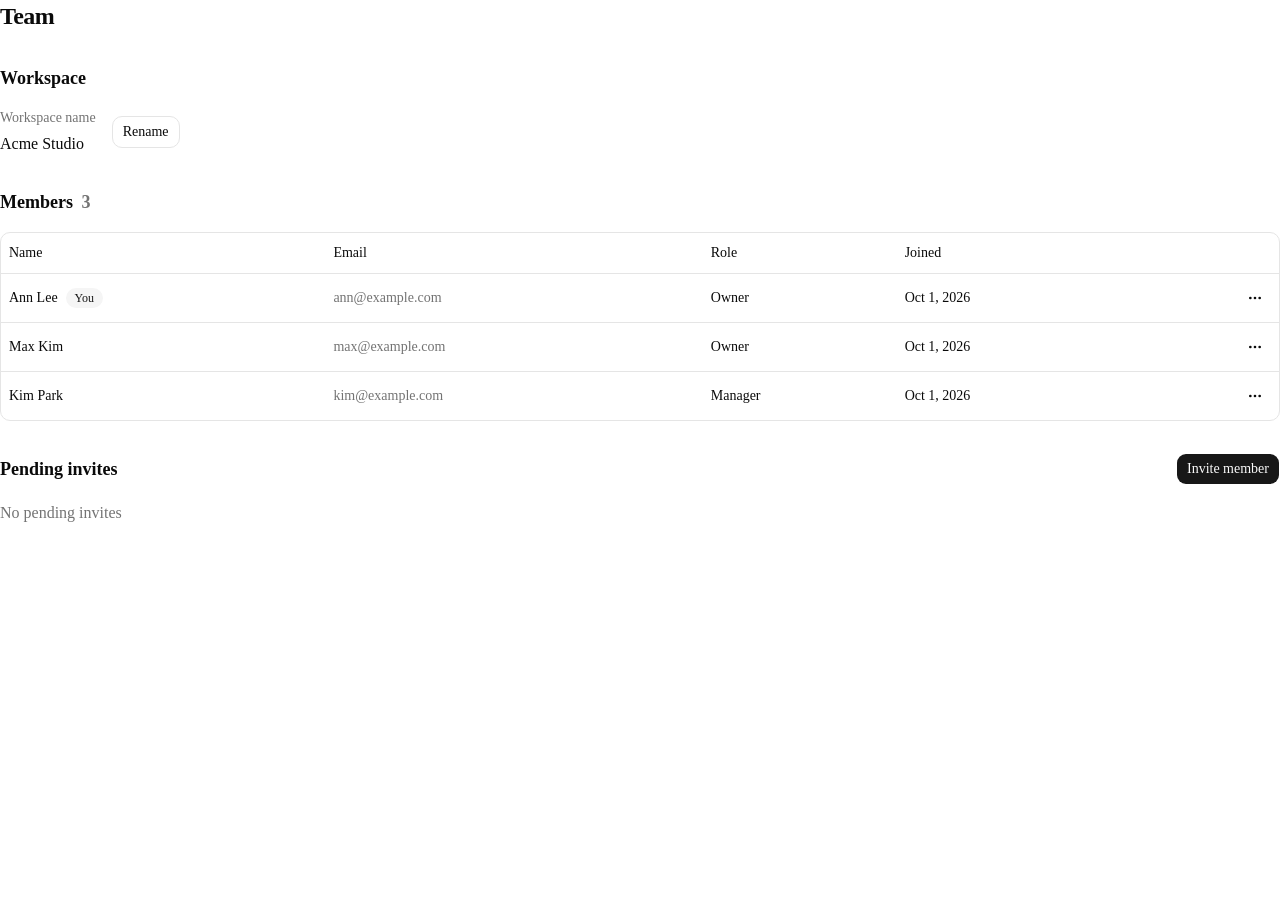
Test: TeamView › roles › should not ask for the invites again when the owner demotes themselves
This screenshot has width=1280, height=900.
What coordinates should you click on to do the following:
click the button named "Actions for Ann Lee"
I would click on:
 (1255, 298)
Its box is [1239,282,1271,314].
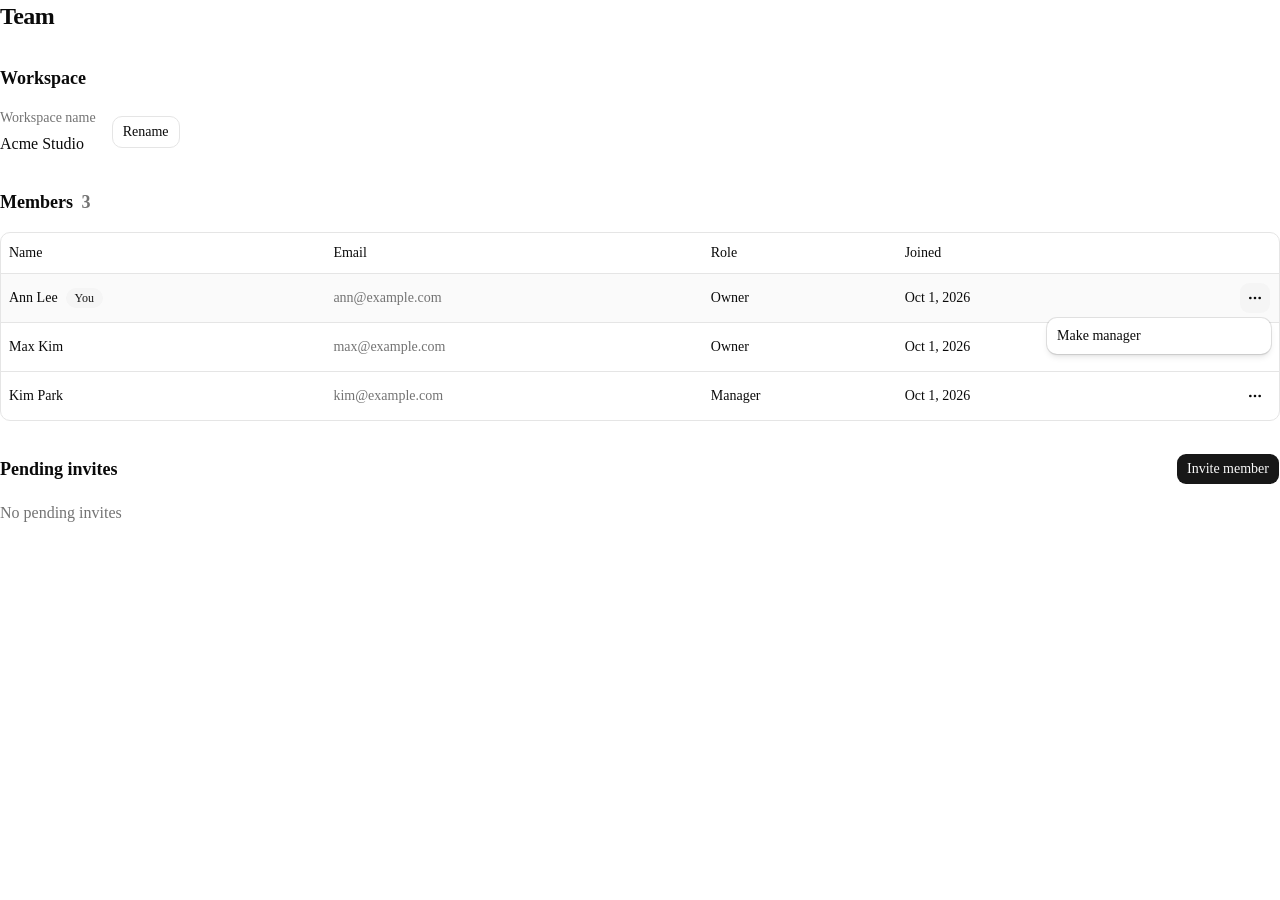
What coordinates should you click on to do the following:
click the menu item "Make manager"
I would click on:
 (1099, 336)
Its box is [1057,328,1141,343].
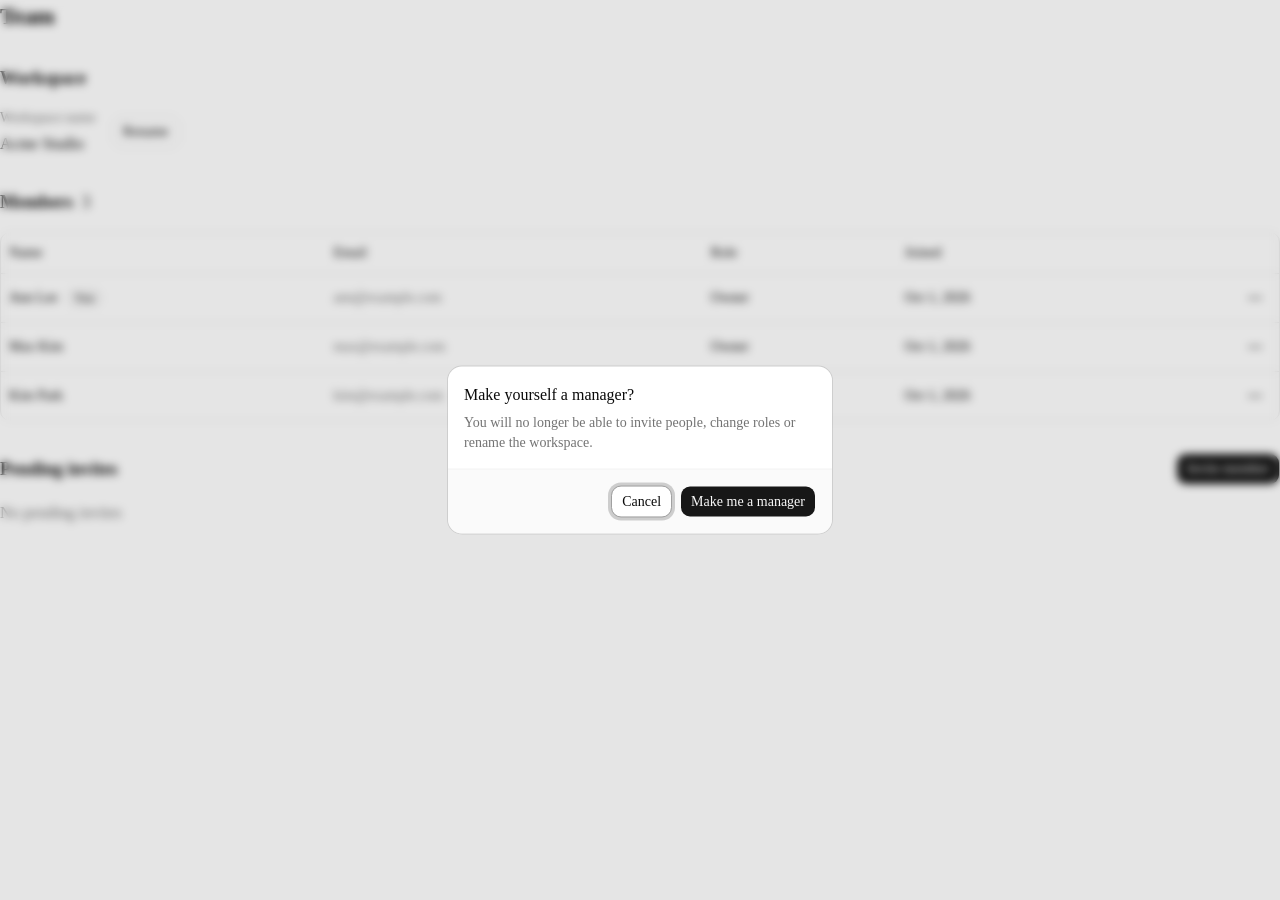
What coordinates should you click on to do the following:
click the button "Make me a manager"
I would click on:
 (748, 502)
Its box is [680,486,816,518].
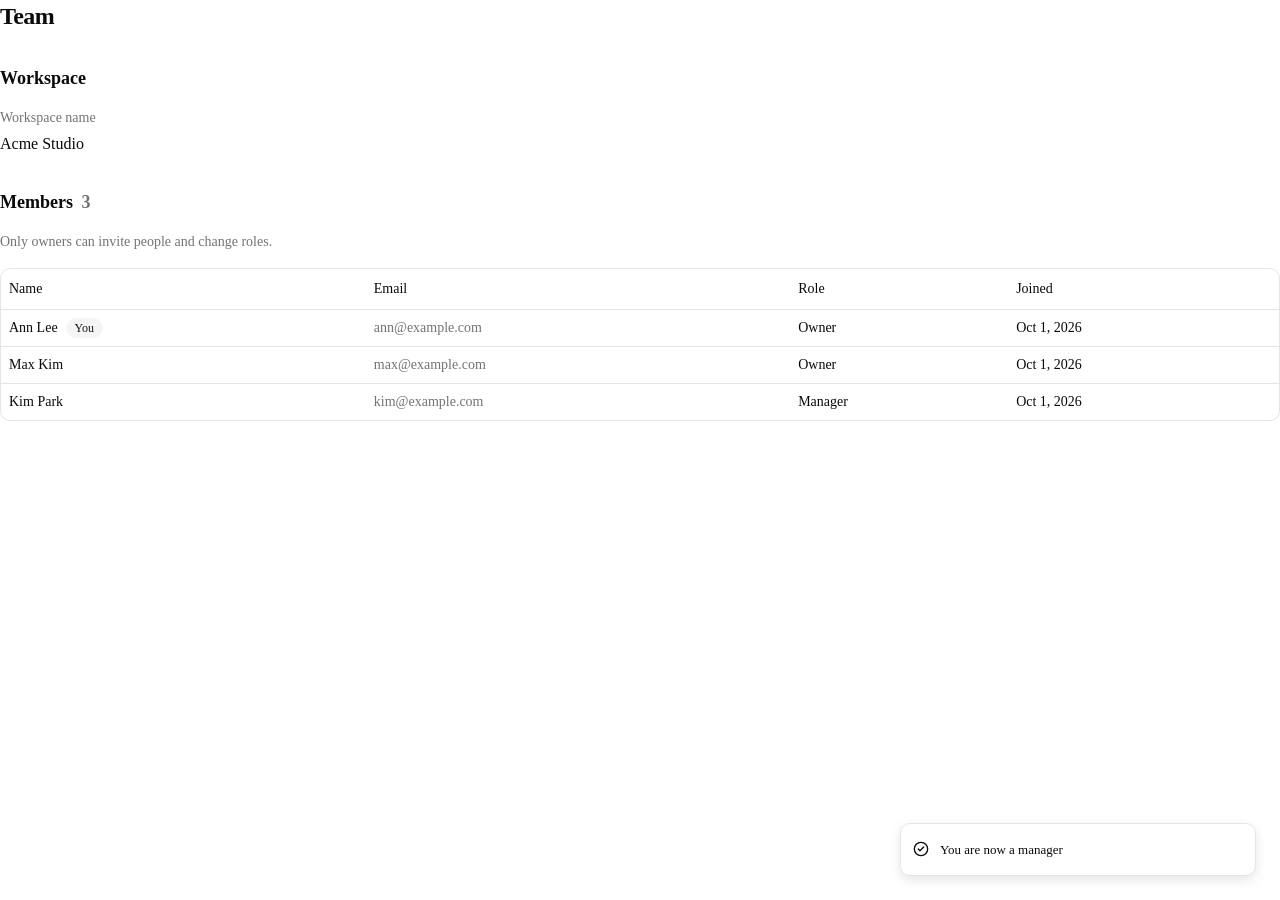
Expected: the heading "Pending invites" is gone
